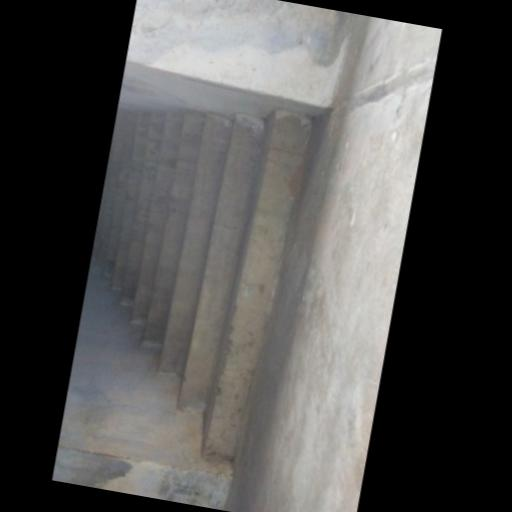stairs: (94, 111, 311, 458)
